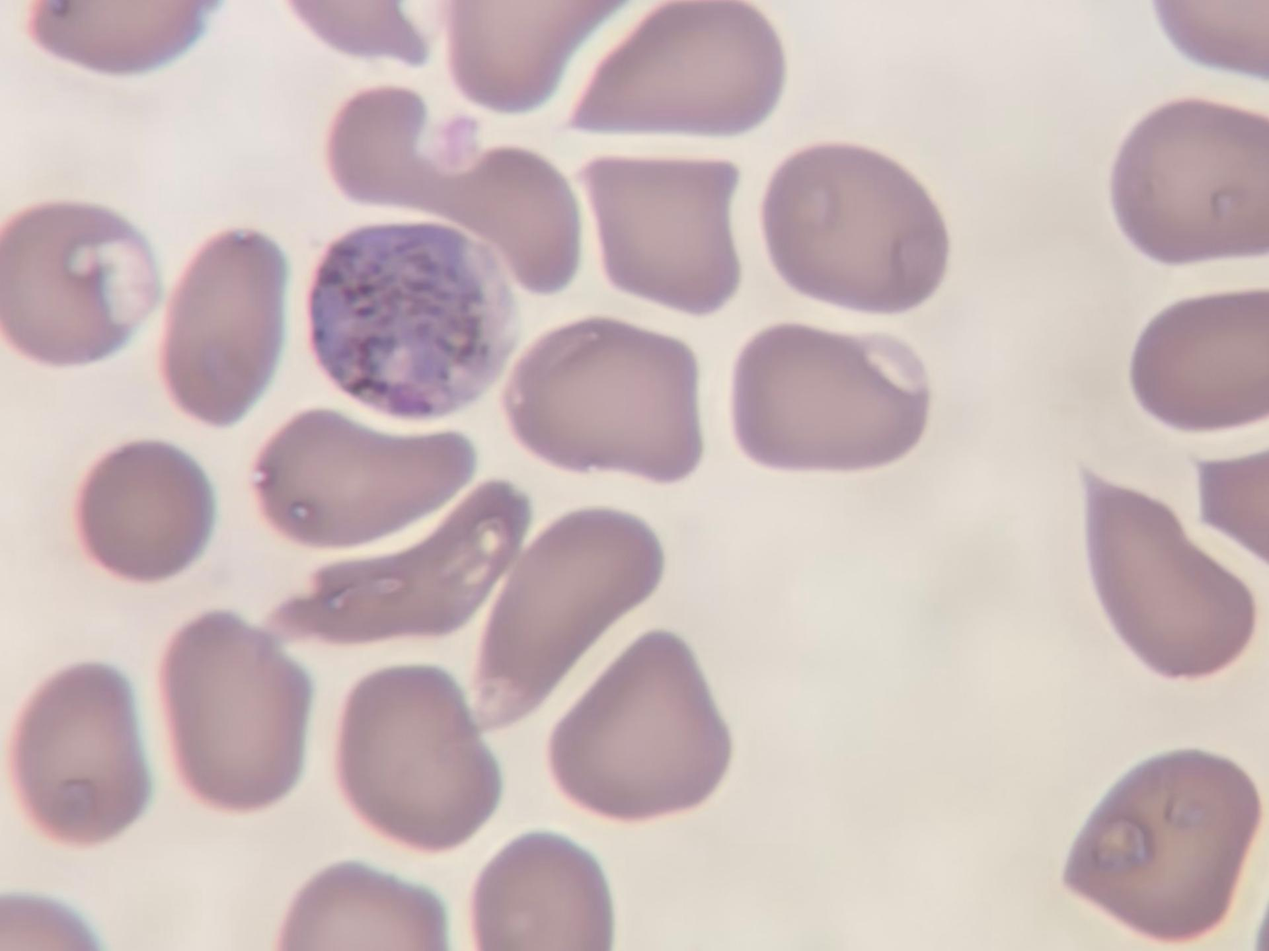Infected: (309, 222, 518, 417)
Uninfected: (324, 85, 578, 291), (270, 480, 525, 644), (467, 507, 655, 724), (1065, 750, 1256, 937), (1081, 468, 1250, 679), (508, 311, 704, 481), (550, 632, 727, 818), (252, 411, 477, 548), (763, 144, 945, 313), (335, 666, 500, 849), (159, 613, 308, 812), (567, 0, 782, 136), (731, 331, 931, 470), (1112, 98, 1268, 264), (578, 157, 739, 315), (10, 662, 148, 843), (0, 200, 150, 363), (161, 229, 286, 424), (447, 2, 640, 115), (76, 441, 212, 584), (1133, 289, 1266, 431), (471, 835, 609, 951), (276, 862, 444, 947), (327, 86, 436, 204)
